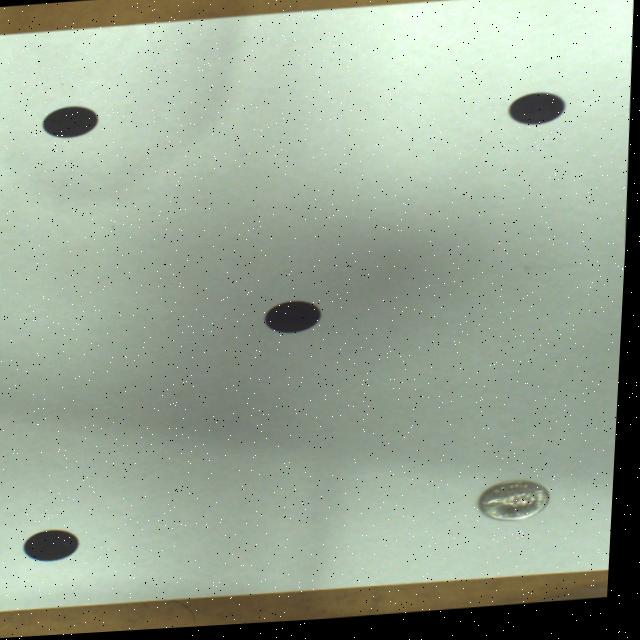space: (267, 304, 325, 335), (509, 98, 565, 130), (29, 529, 84, 561), (43, 106, 99, 137)
tail1bath: (484, 486, 553, 526)
